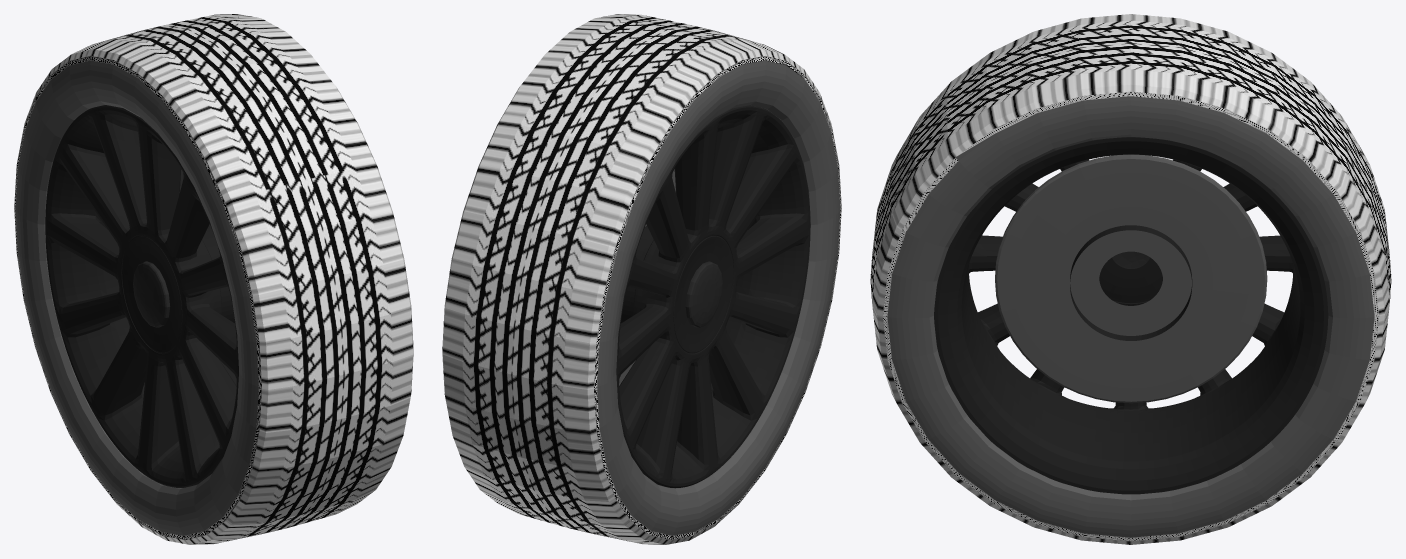
The model's file is Whell_Aston_Martin_DB9.obj.
The picture shows the model from 3 angles, left to right: view 1: azimuth 30°, elevation 25°; view 2: azimuth 150°, elevation 25°; view 3: azimuth 270°, elevation 25°; orthographic projection.
Visible parts, largest first — view 1: Object_#5_Object_#5.001; view 2: Object_#5_Object_#5.001; view 3: Object_#5_Object_#5.001.
Boxes of the visible parts, x1,y1,x2,y2 form: Object_#5_Object_#5.001: (14, 14, 413, 544); Object_#5_Object_#5.001: (442, 14, 841, 544); Object_#5_Object_#5.001: (870, 14, 1391, 544).
Bounding box in the file's own units: 0.2407 × 0.6789 × 0.6789.
Materials: 4 (1 with a texture image).
